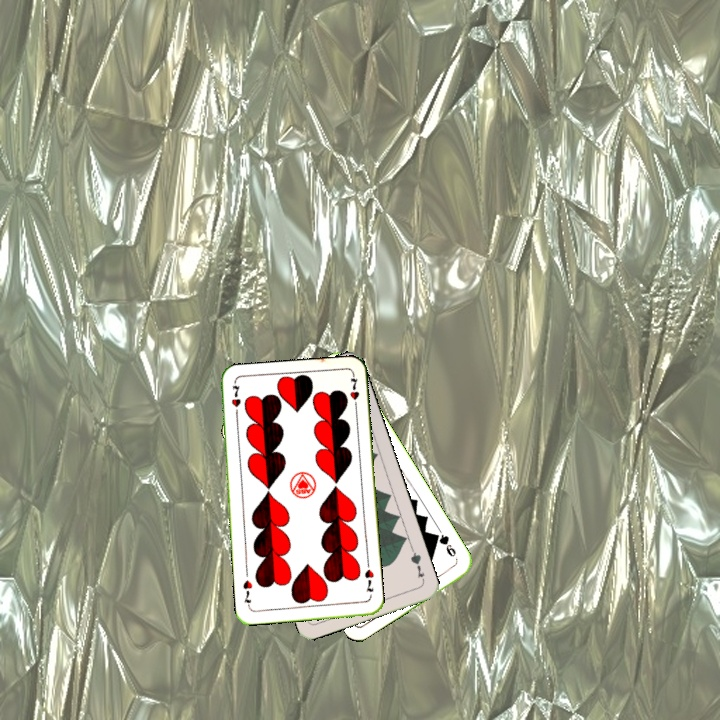G7: (406, 545, 427, 584)
G9: (430, 530, 460, 563)
H7: (227, 380, 243, 420), (361, 565, 376, 594)
